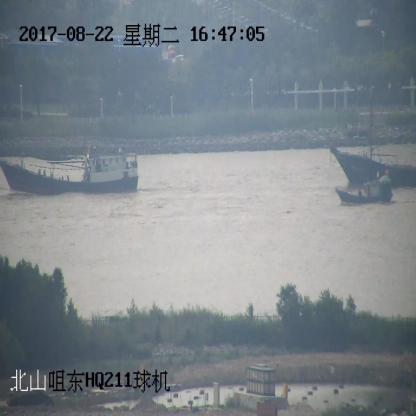Fishing Boat: (330, 94, 416, 189), (0, 144, 140, 196), (339, 174, 393, 205)
